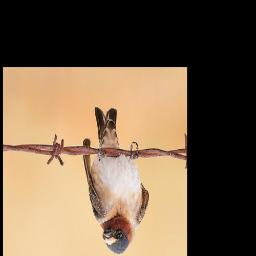Swallow: (83, 106, 150, 255)
